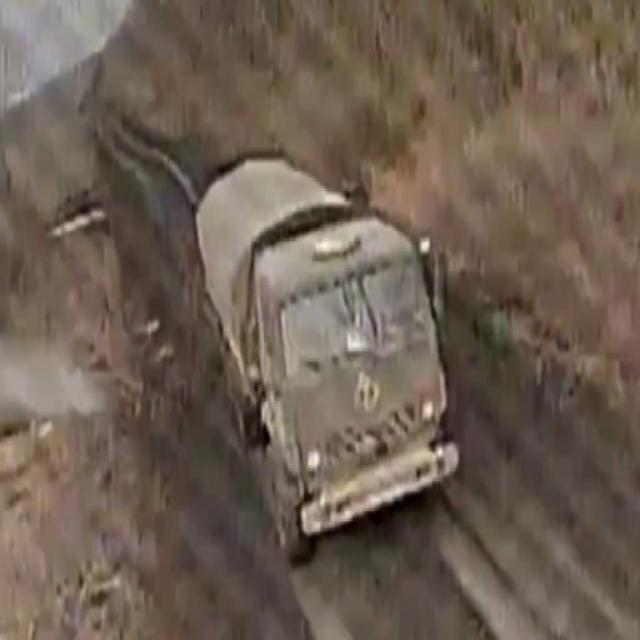TRUCK: (191, 146, 460, 562)
